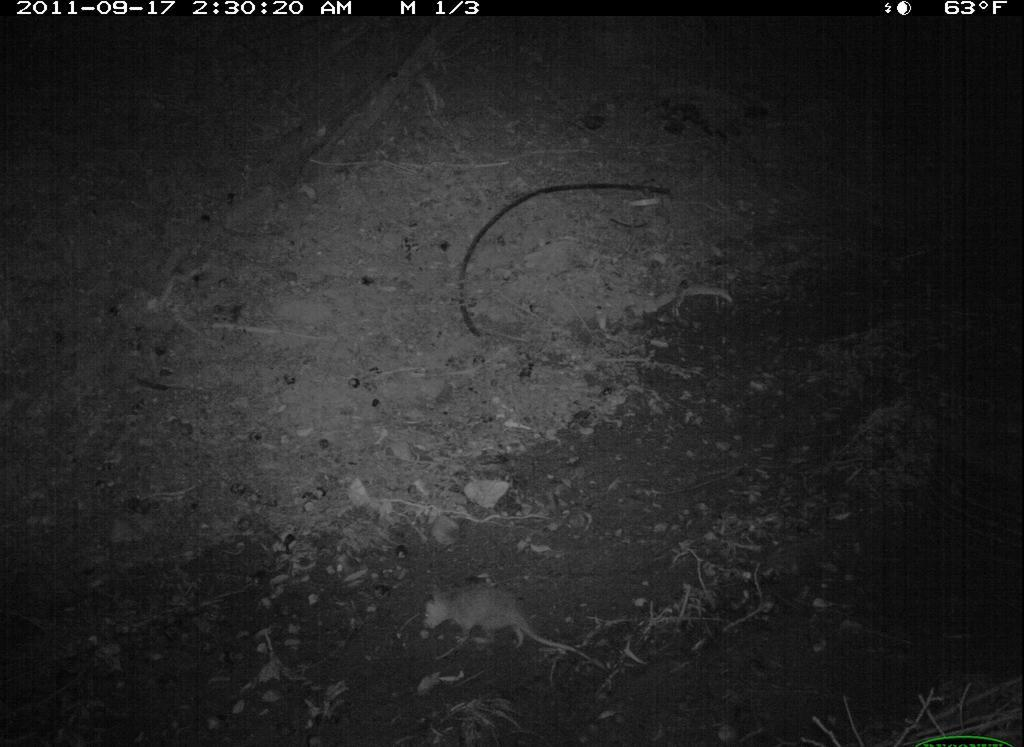opossum: (418, 579, 614, 689)
